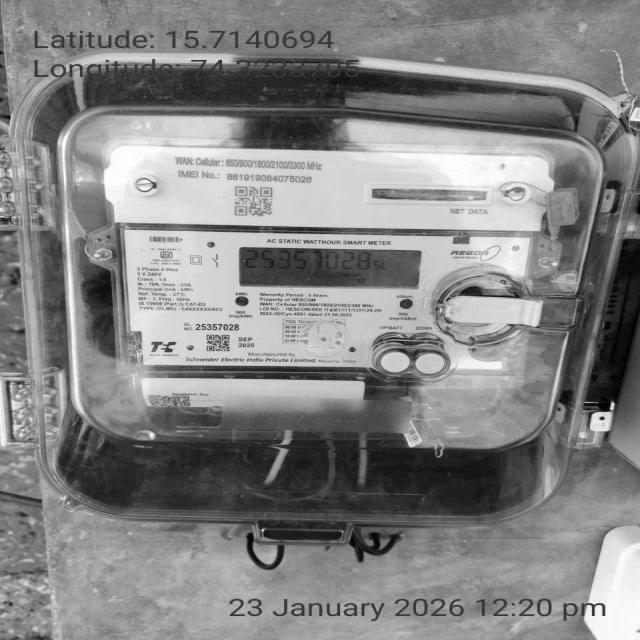meter: (107, 146, 556, 372)
